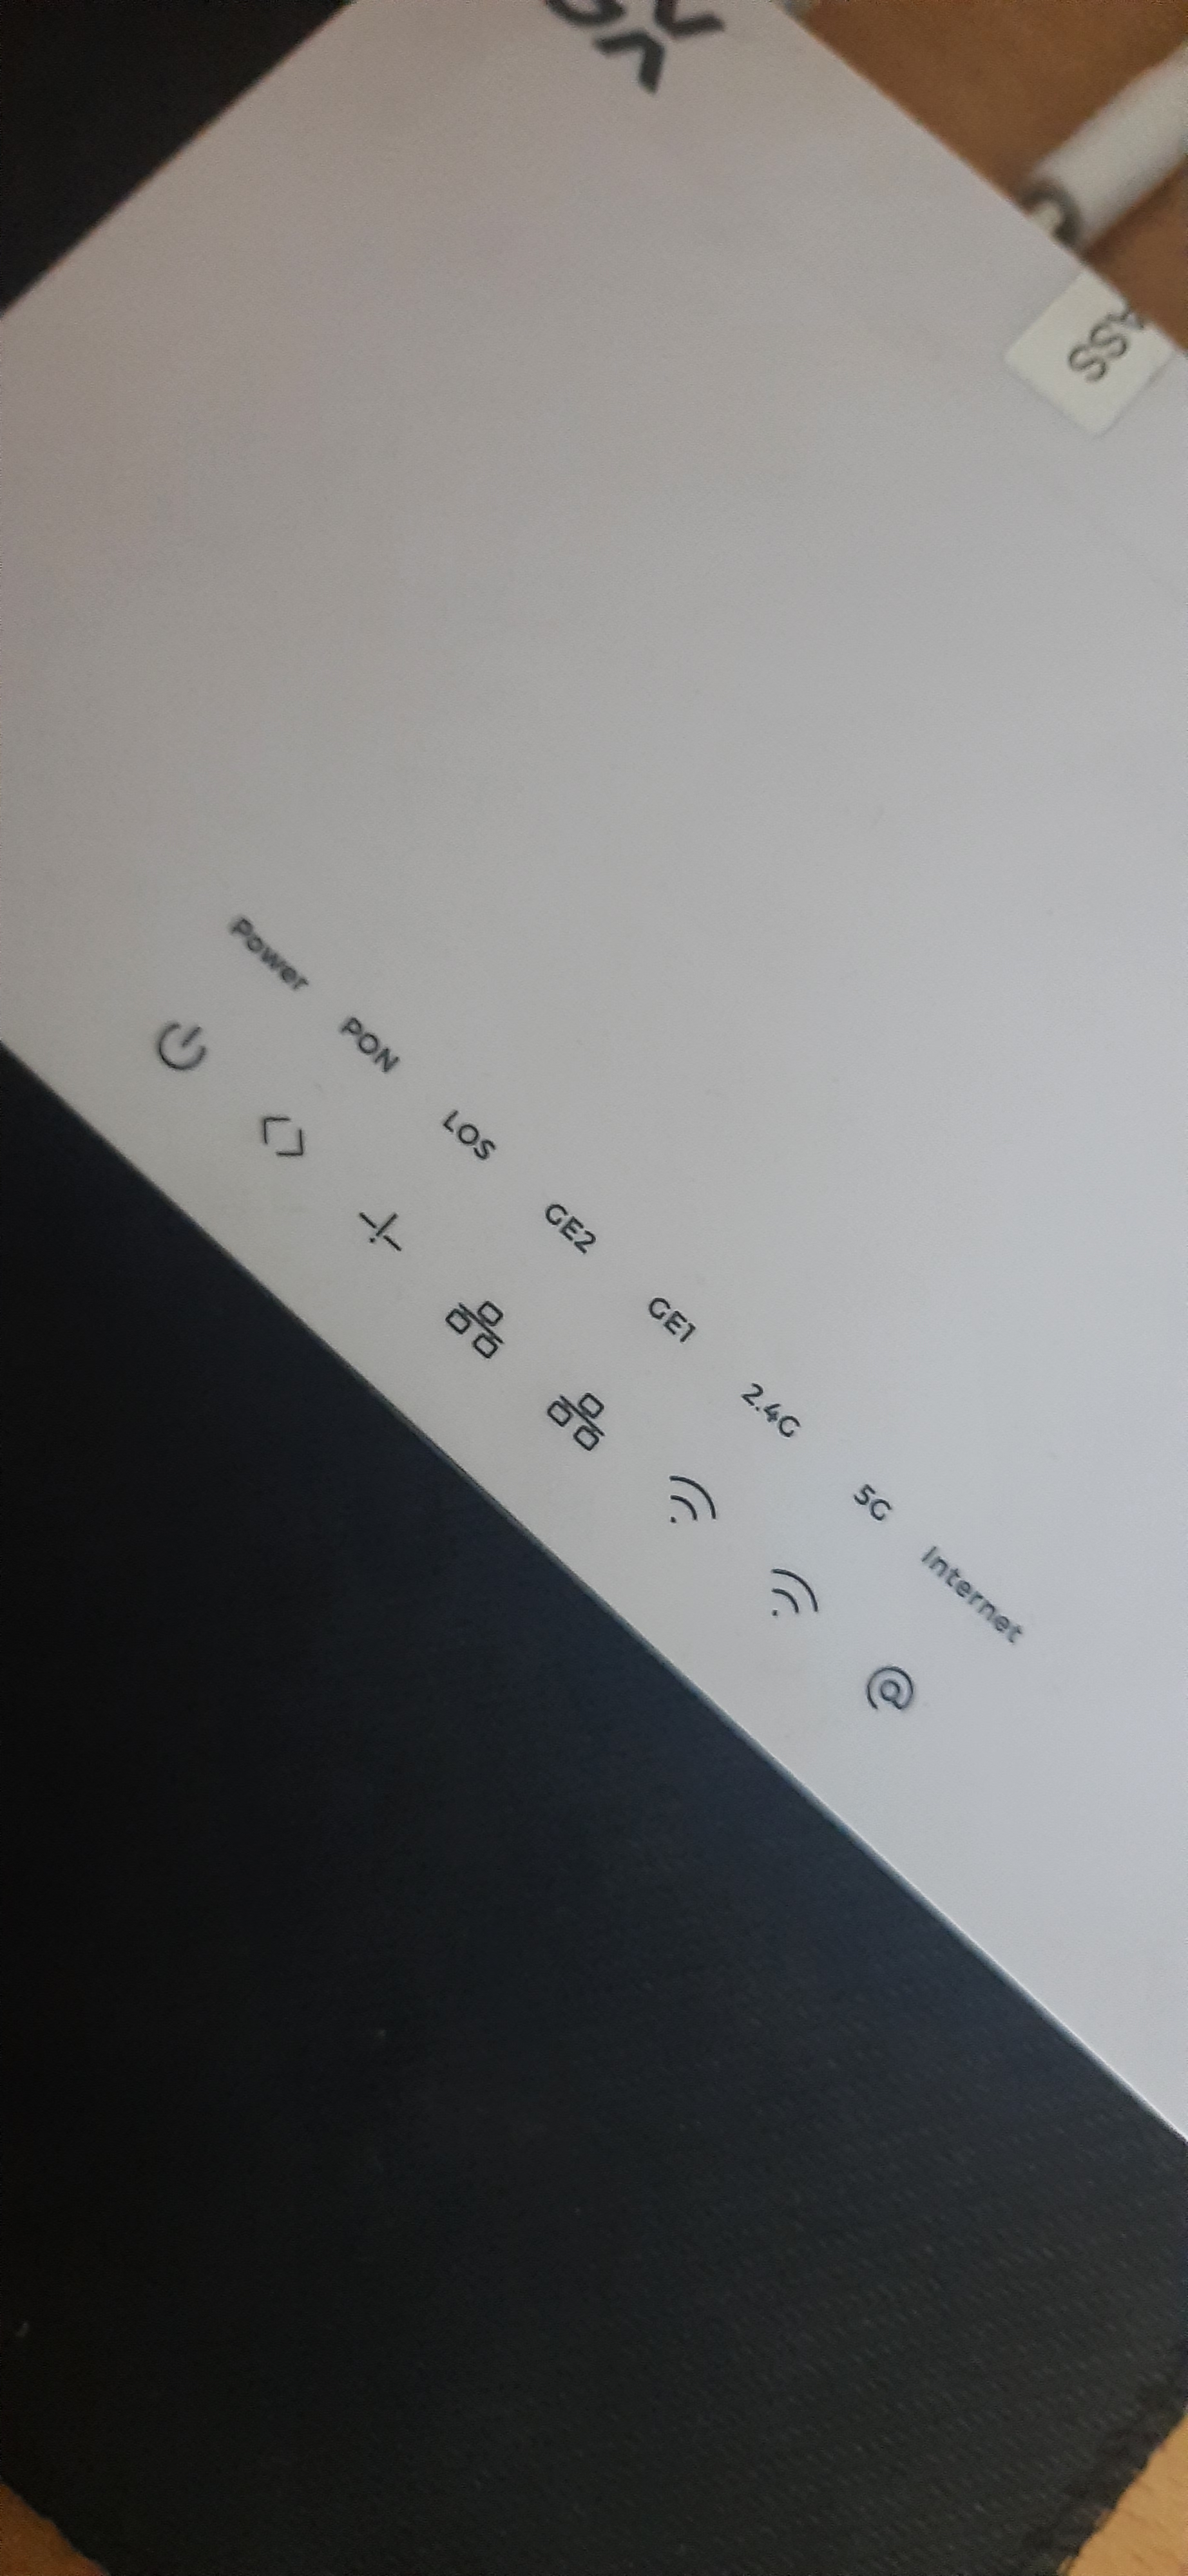WhiteWireIssue: (84, 907, 1053, 1861)
